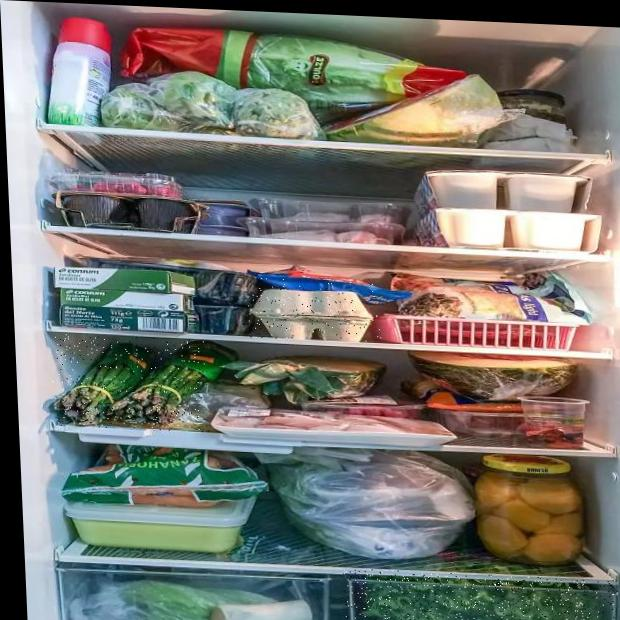asparagus: (50, 333, 209, 433)
eggs: (247, 277, 382, 343)
spinach: (343, 568, 617, 620)
